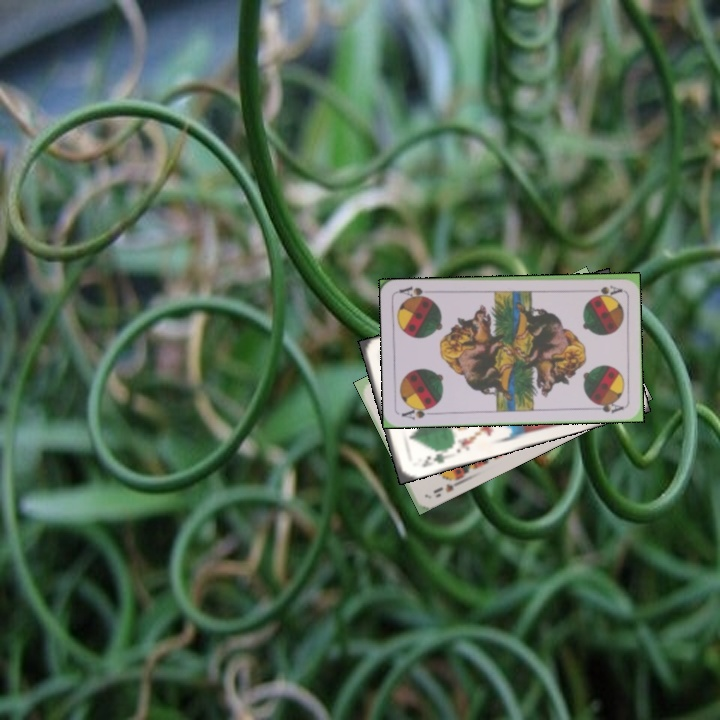GK: (418, 446, 450, 470)
S9: (429, 474, 465, 496)
SA: (398, 402, 438, 422), (583, 281, 624, 297)
